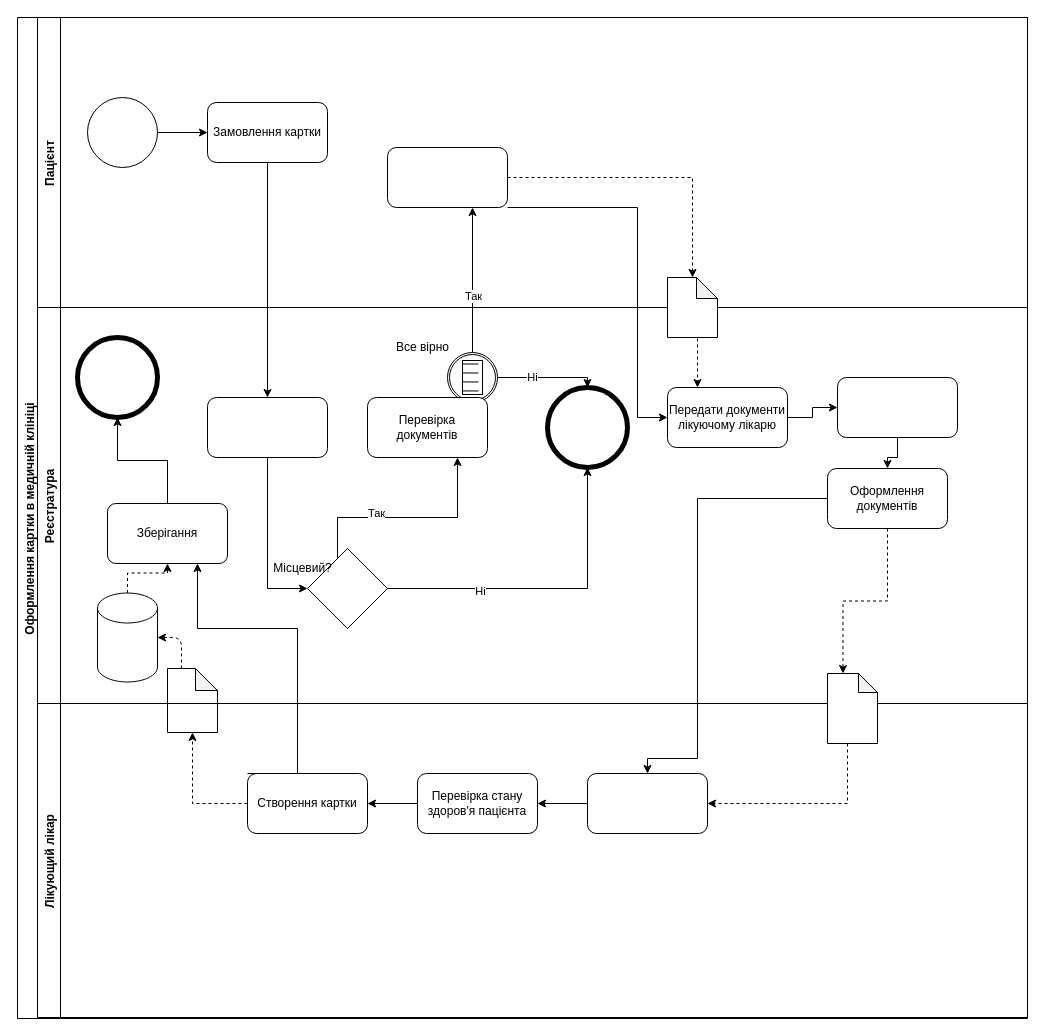
Image size: 1045x1036. Some labels were removed from this diagram. The shapes that lost their labels are listed below. From the top down, each one's centre as x and y in pixels, then its label:
pixel 447 177: Передати документи до реєстратури
pixel 267 427: Повідомлення вимог для оформлення
pixel 897 407: Проходження первинного медогляду
pixel 127 637: База даних Пацієнтів
pixel 647 803: Підписати документи
